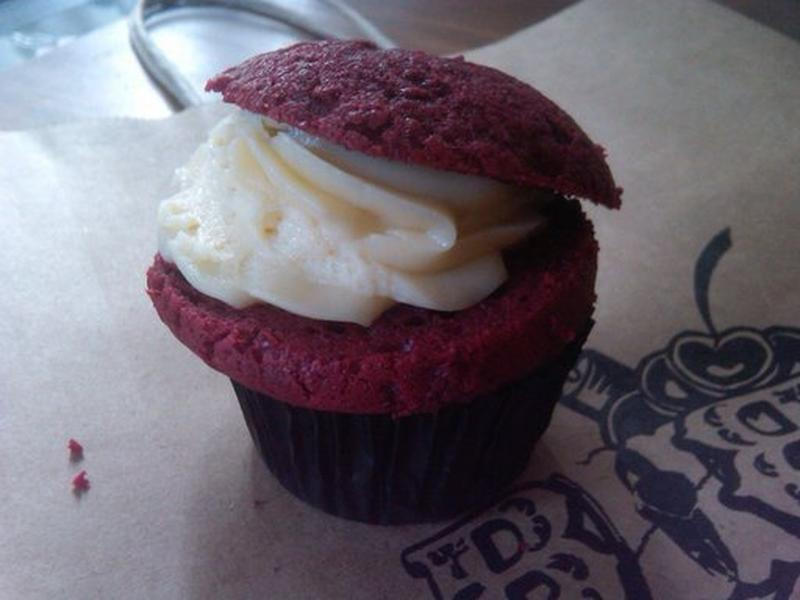cup_cake: (128, 18, 661, 581)
